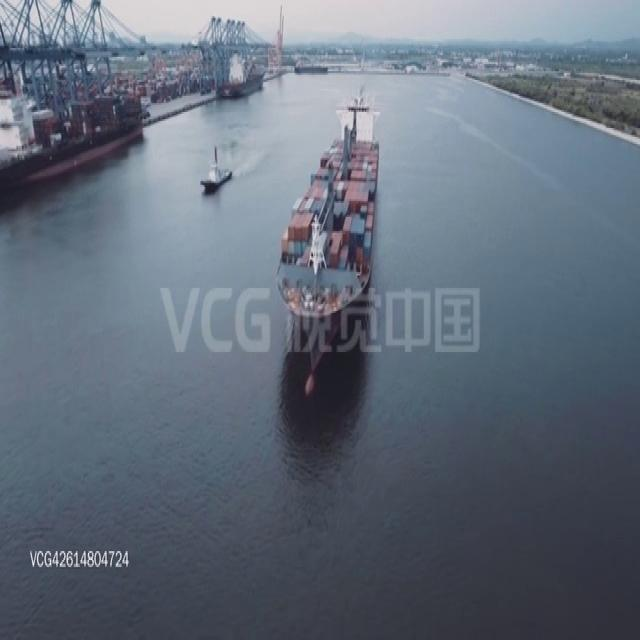cargoship: (270, 90, 384, 398)
houseboat: (198, 142, 234, 188)
